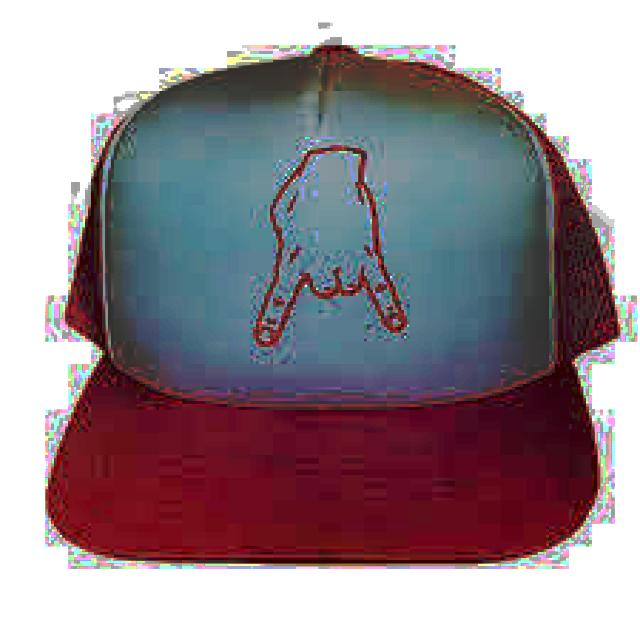TOPI: (43, 26, 623, 574)
